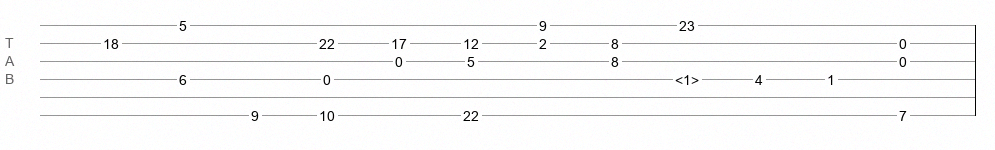0: (323, 72, 331, 82), (395, 54, 403, 64), (899, 54, 907, 64), (899, 36, 907, 46)
1: (827, 72, 835, 82)
10: (319, 108, 335, 118)
12: (463, 36, 479, 46)
17: (391, 36, 407, 46)
18: (103, 36, 119, 46)
2: (539, 36, 547, 46)
22: (319, 36, 335, 46), (463, 108, 479, 118)
23: (679, 18, 695, 28)
4: (755, 72, 763, 82)
5: (179, 18, 187, 28), (467, 54, 475, 64)
6: (179, 72, 187, 82)
7: (899, 108, 907, 118)
8: (611, 54, 619, 64), (611, 36, 619, 46)
9: (251, 108, 259, 118), (539, 18, 547, 28)
harmonic: (675, 72, 699, 82)
